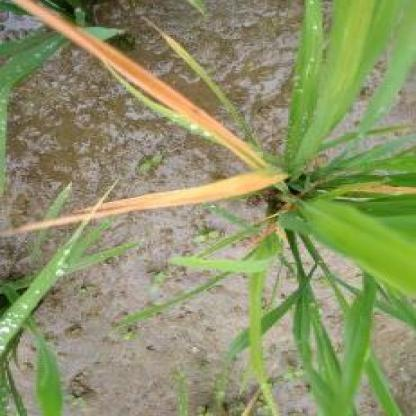Tungro: (14, 2, 266, 168), (19, 168, 293, 227)
